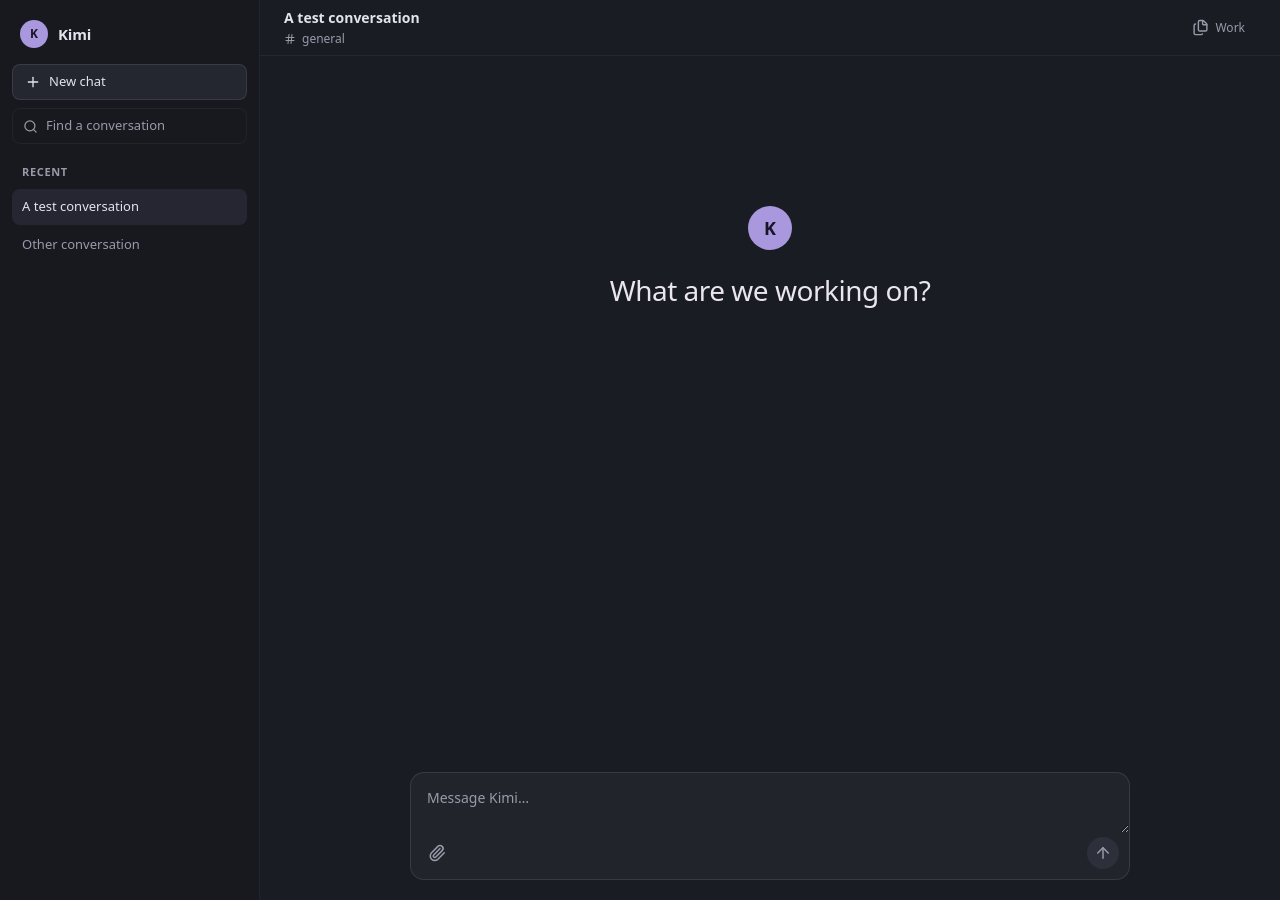
Test: reconciles a response that finishes while another chat is open
The width and height of the screenshot is (1280, 900).
Step 1. Type "Work on this" into the text box labelled "Message Kimi" → {"x": 770, "y": 803}, box [411,773,1129,833]
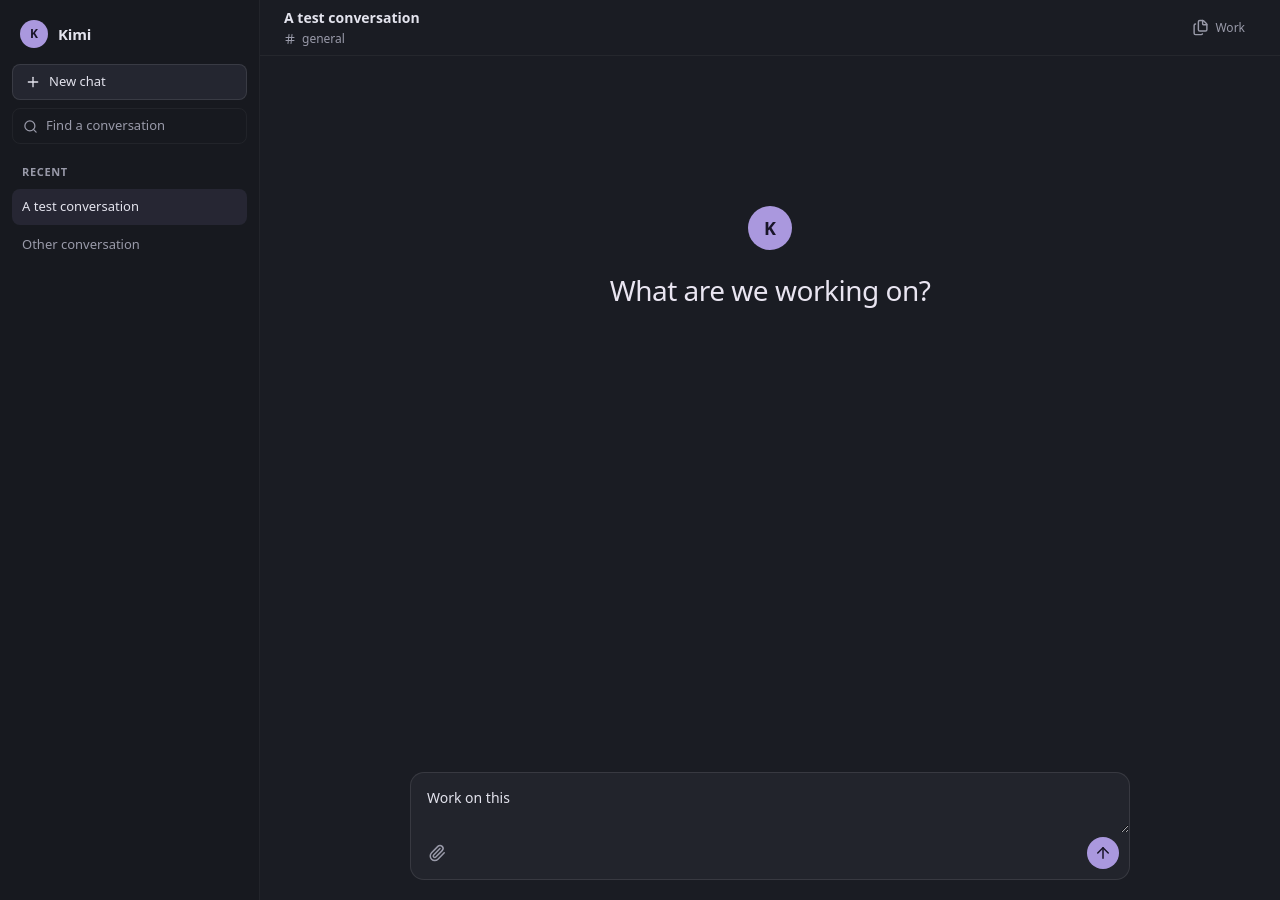
Step 2. Click the button named "Send message" → {"x": 1103, "y": 853}, box [1087,837,1119,869]
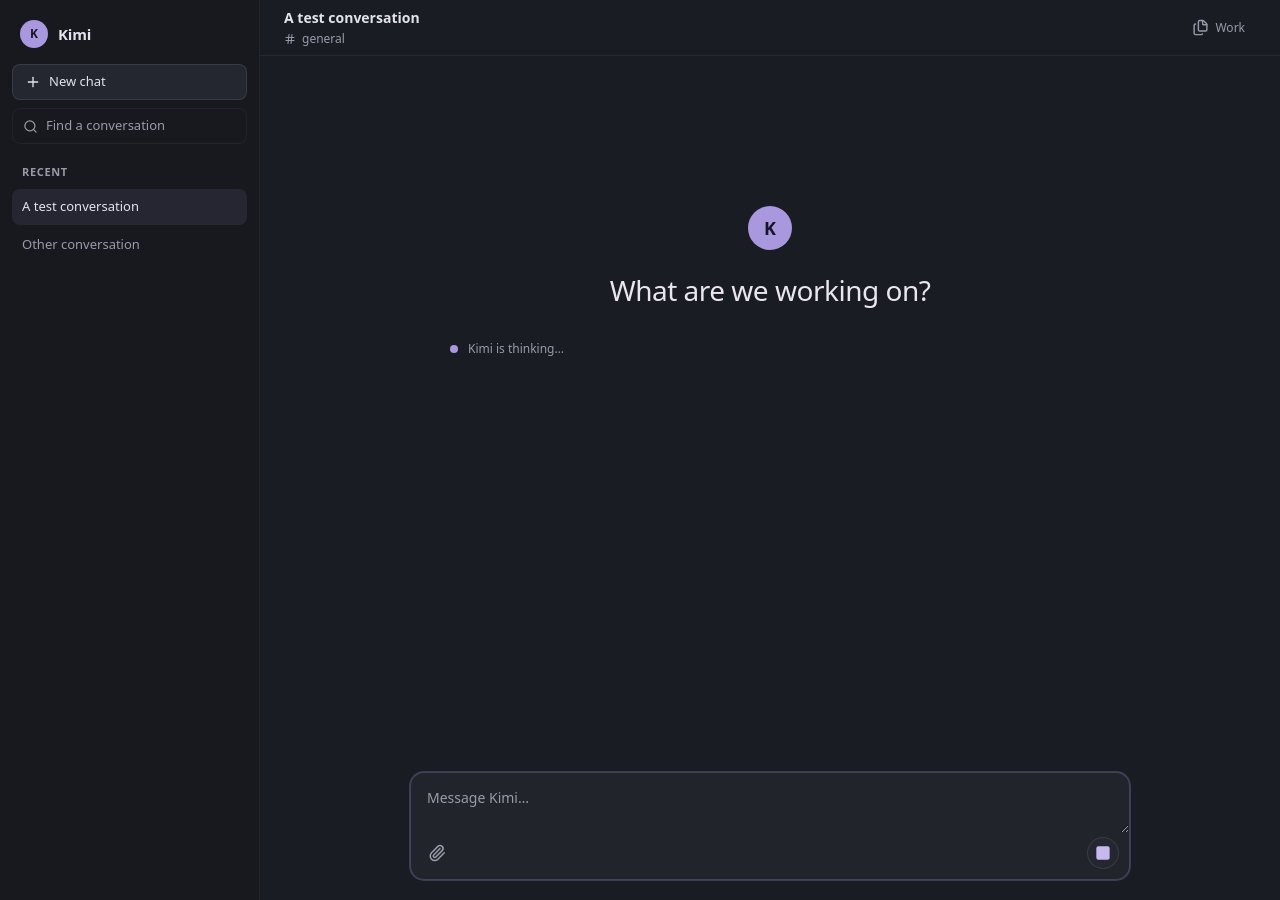
Expected: the button named "Stop response" is shown, [1087,837,1119,869]
Step 3. Click the button "Other conversation" → {"x": 130, "y": 244}, box [12,226,247,262]
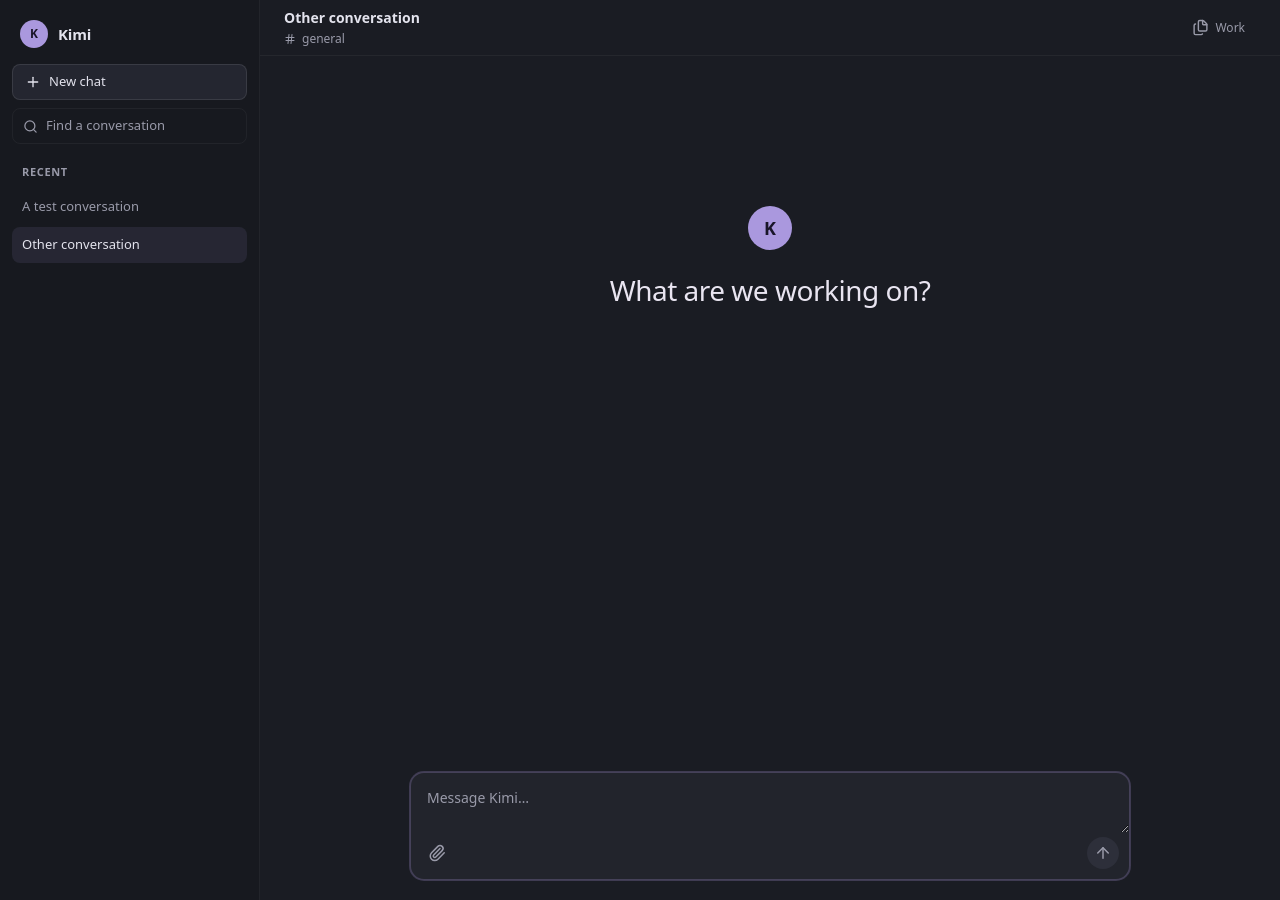
Step 4. Click the button "A test conversation" → {"x": 130, "y": 206}, box [12,188,247,224]
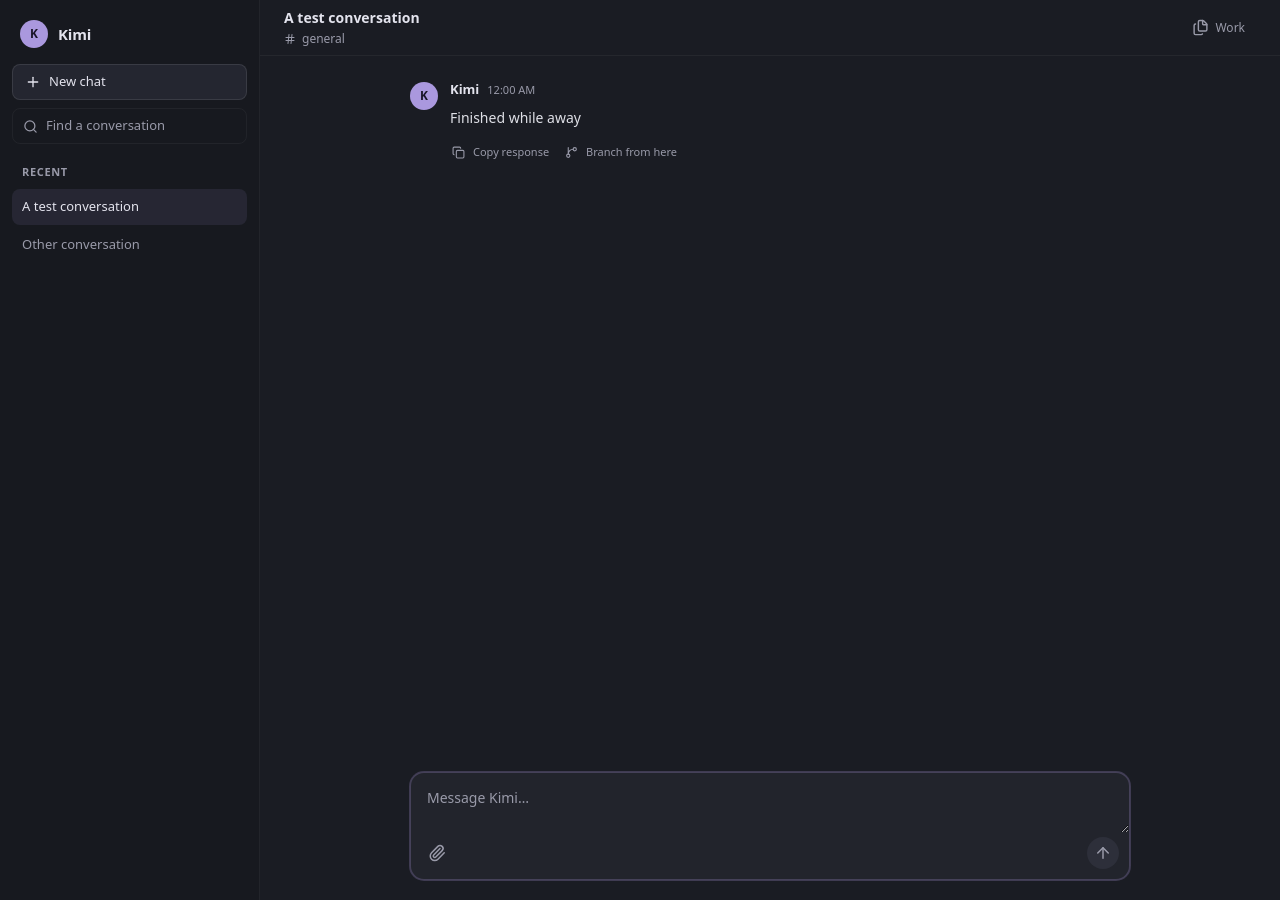
Expected: the text "Finished while away" is shown, [450,108,581,126]
